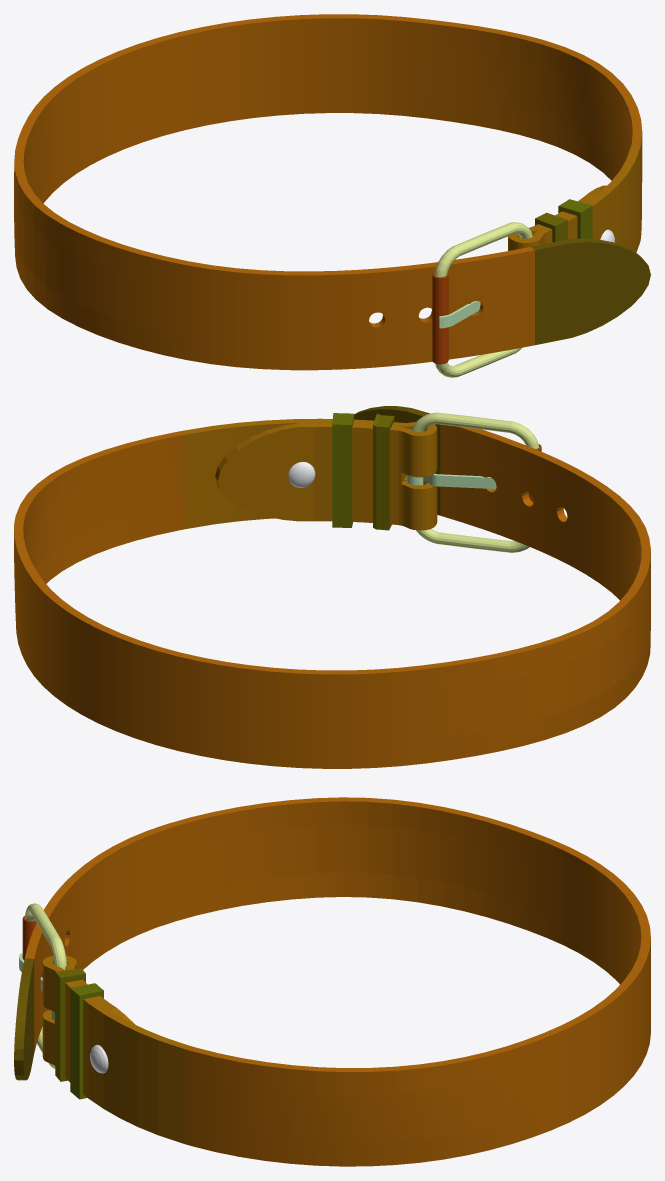
File: Coleira.fbx
The picture shows the model from 3 angles, top to bottom: view 1: azimuth 30°, elevation 25°; view 2: azimuth 150°, elevation 25°; view 3: azimuth 270°, elevation 25°; orthographic projection.
Parts seen in each view (by area): view 1: Coleira, Metal; view 2: Coleira, Metal, MetalB; view 3: Coleira, Metal.
Part boxes in pixels (x1,y1,x2,y2): Coleira: (14, 14, 650, 370); Metal: (434, 222, 532, 377); Coleira: (14, 406, 650, 768); Metal: (406, 412, 539, 552); MetalB: (288, 462, 315, 487); Coleira: (14, 797, 650, 1166); Metal: (19, 903, 66, 1068).
Bounding box in the file's own units: 51.59 × 11.38 × 50.07.
